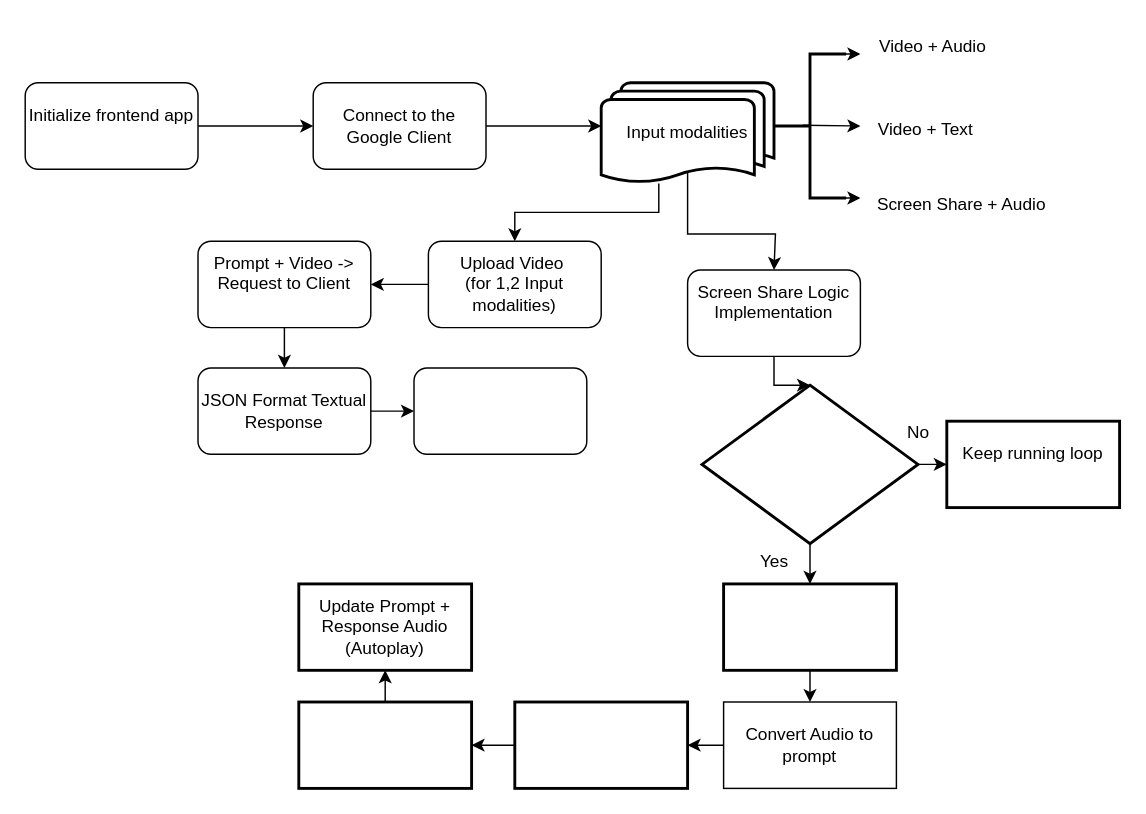
Some shapes in this 1146 by 814 pixel diagram are drawn without their labels. The box of each missing label's shape, as (x1, y1, x2, y2) in pixels:
Get Audio response: (297, 700, 472, 789)
Markdown Output (Table /Summary, etc): (413, 366, 587, 454)
Screen Shared, Has audio ended?: (700, 383, 919, 544)
Send request to client (Vid + text prompt): (513, 700, 688, 789)
Stop and capture video, send video snippet to Model: (721, 582, 897, 671)
